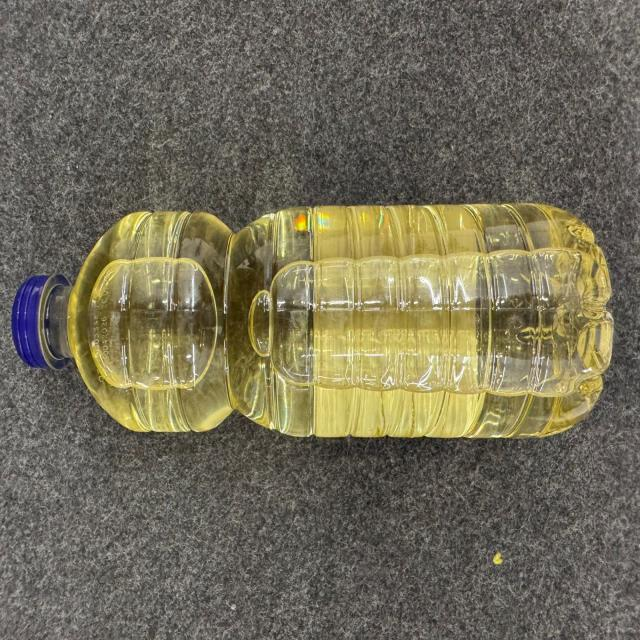ACEITE VEGETAL LA POSADA 800 ML: (10, 207, 617, 440)
